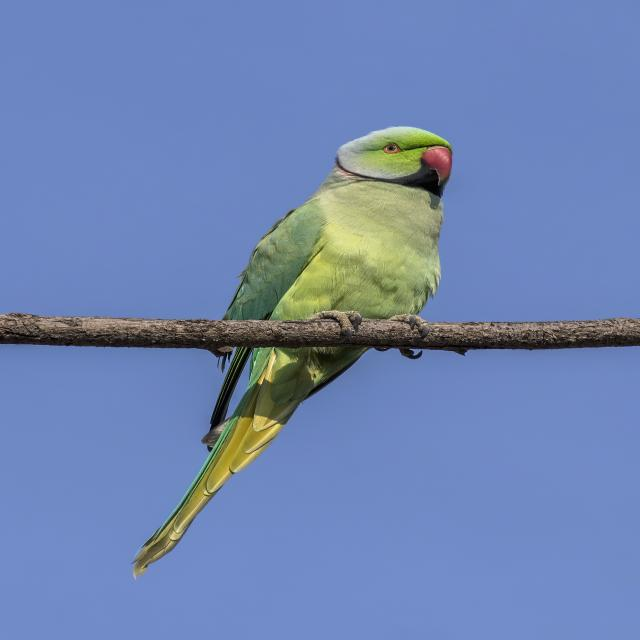Parrot: (126, 123, 458, 569)
